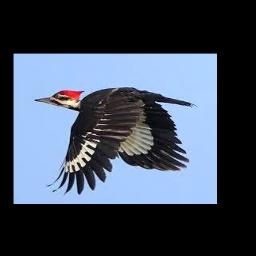Woodpecker: (35, 87, 199, 194)
